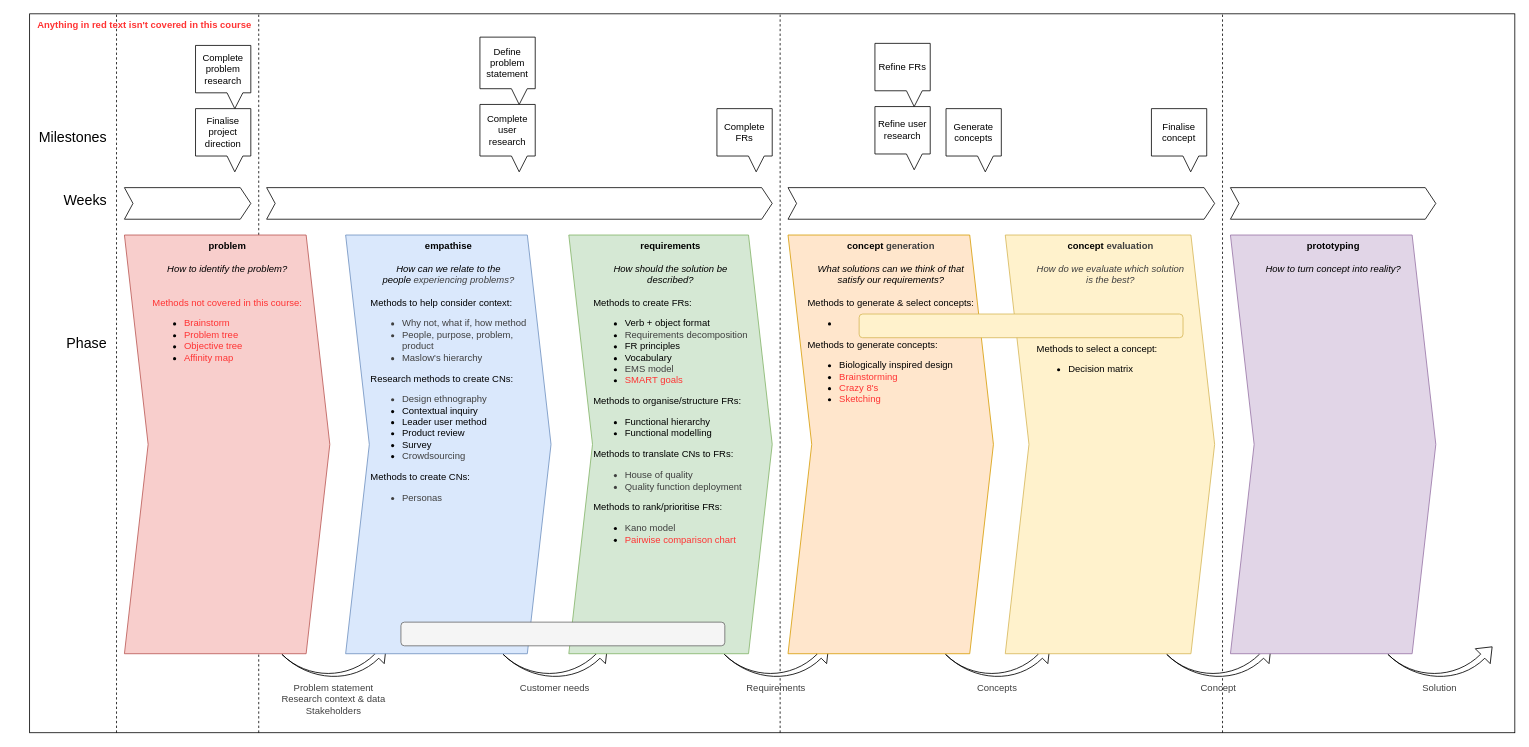
The diagram is 1529 pixels wide and 747 high, and some of its shapes have lost their labels. The shapes that lost their labels are listed below. From the top down, each one's box as (x1, y1, x2, y2) in pixels, then its label:
(124, 187, 251, 219): week 1
(266, 187, 772, 219): week 2
(787, 187, 1215, 219): week 3
(1230, 187, 1436, 219): week 4 onwards
(858, 313, 1183, 338): axiomatic design theory
(400, 621, 725, 646): user stories
